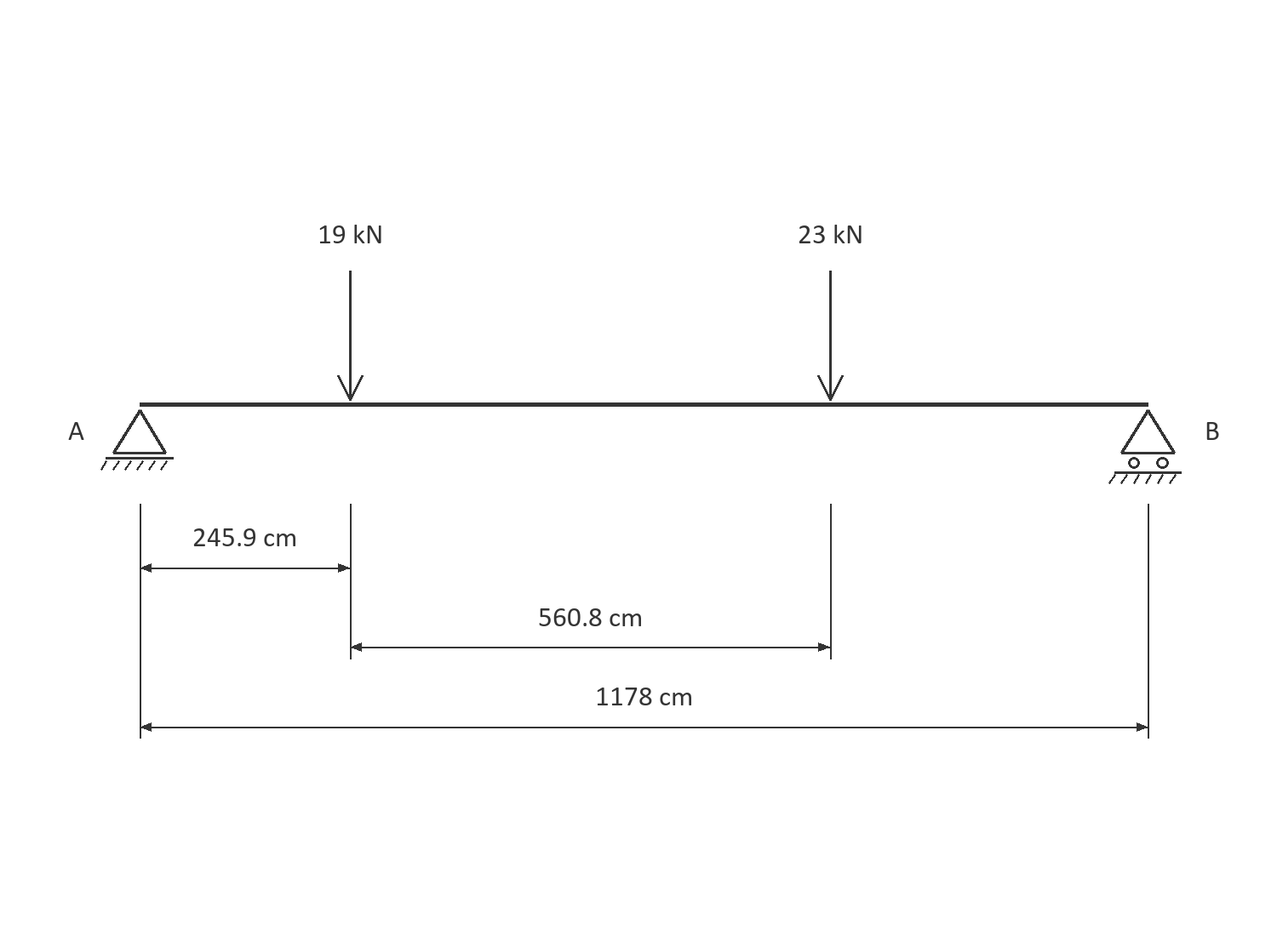pin_support: (100, 409, 174, 471)
point_load: (337, 271, 364, 401), (817, 271, 844, 401)
roller_support: (1108, 409, 1182, 484)
